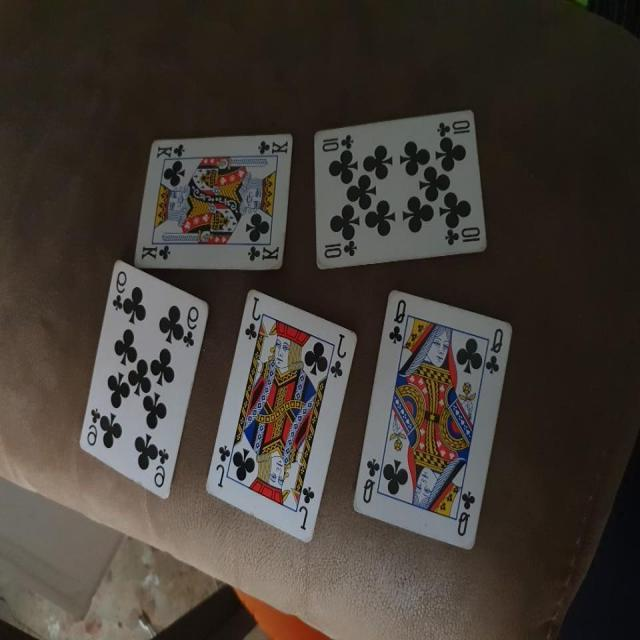10 of clubs: (312, 110, 490, 270)
9 of clubs: (78, 258, 212, 502)
jack of clubs: (206, 286, 360, 542)
king of clubs: (133, 130, 293, 272)
queen of clubs: (351, 286, 512, 552)
